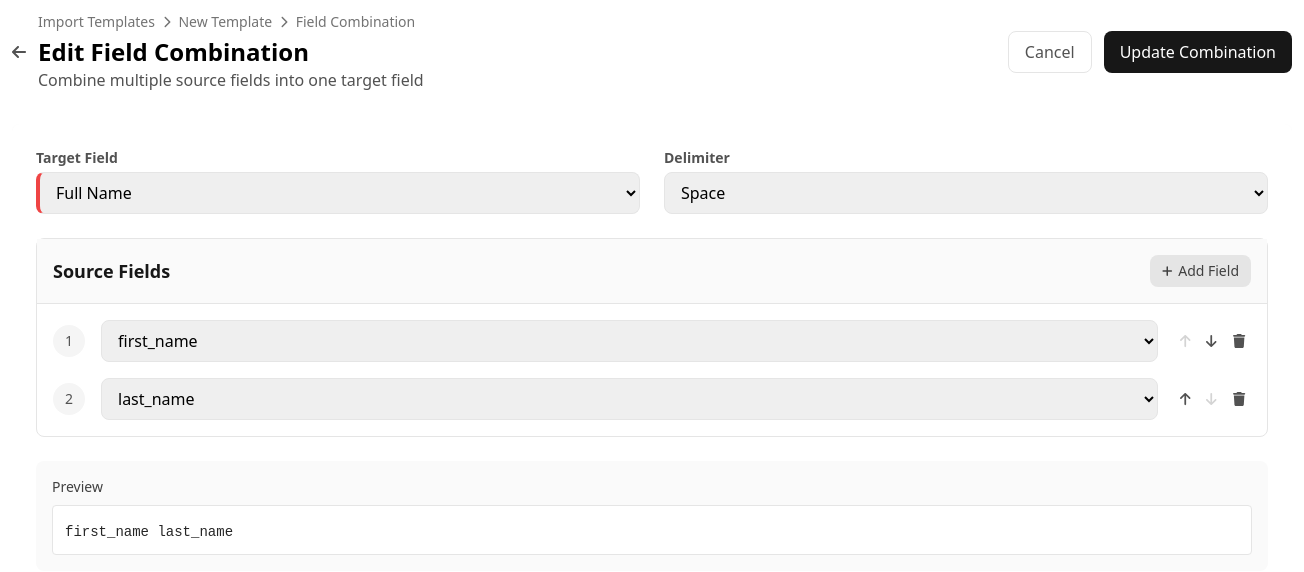
Test: FieldCombinationEditor › Preview Generation › should update preview when delimiter changes
Change delimiter to comma
Select "Comma" in the dropdown labelled "Delimiter" at point(966, 193), box [664, 172, 1268, 214]
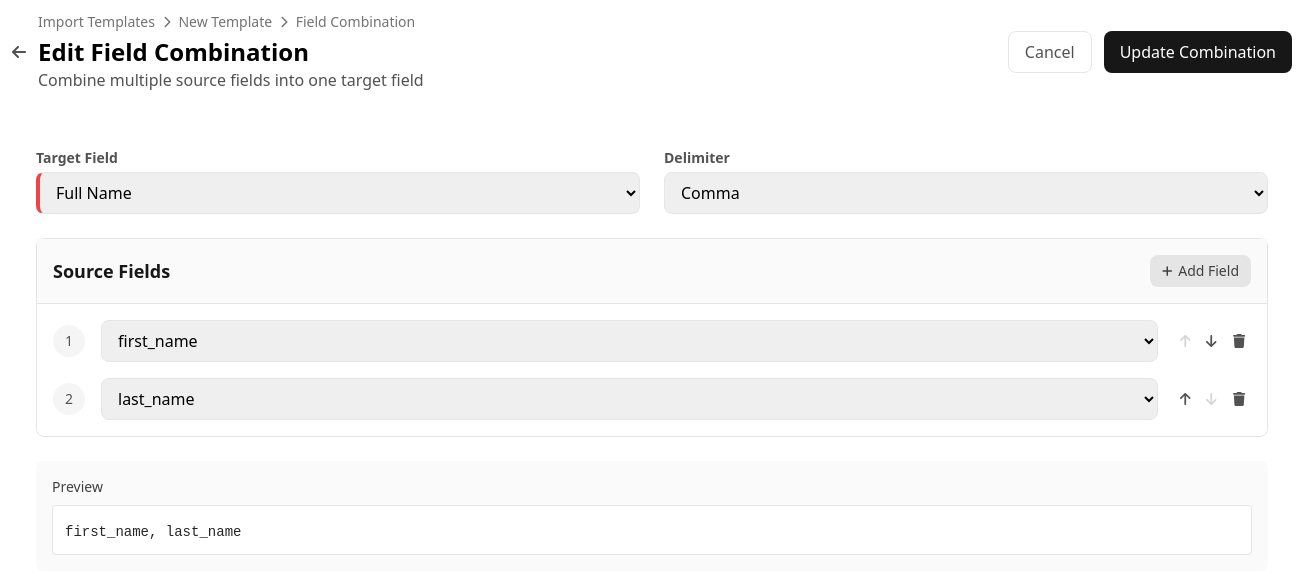
Result: the text "first_name, last_name" is shown at [65, 524, 241, 540]
